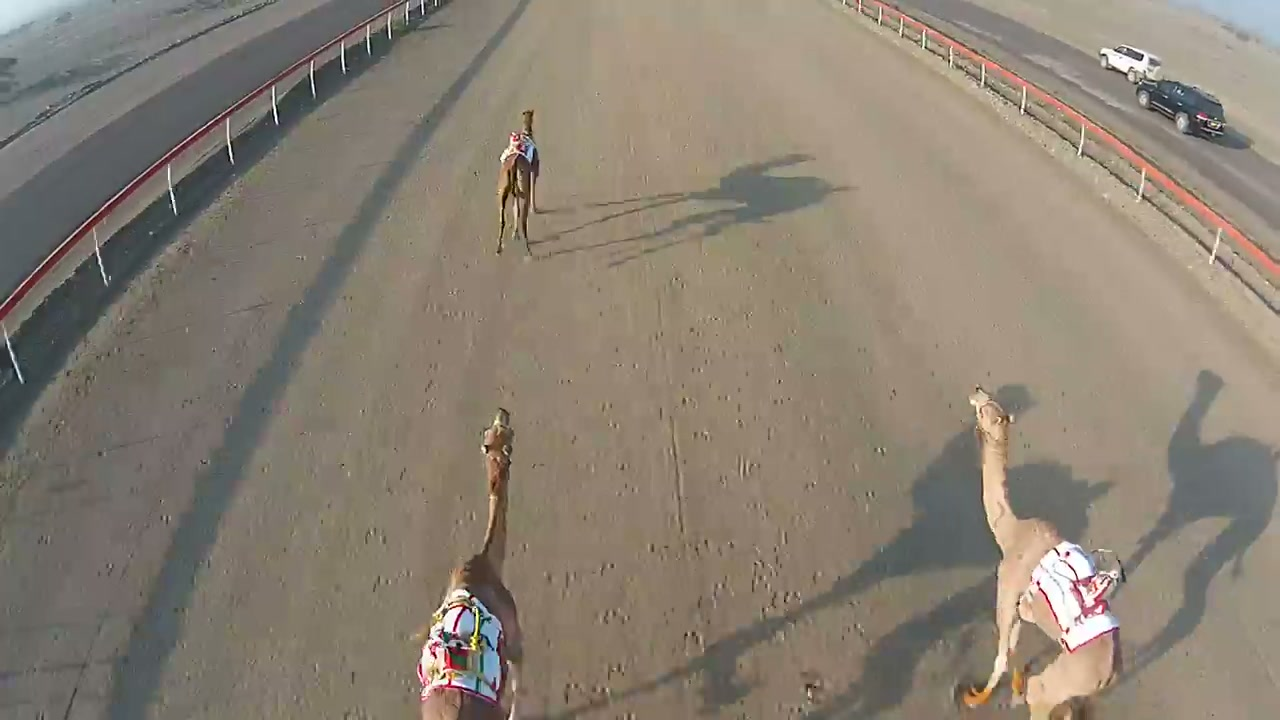animal_foot_print: (679, 260, 846, 693), (335, 260, 473, 702), (569, 266, 684, 711)
